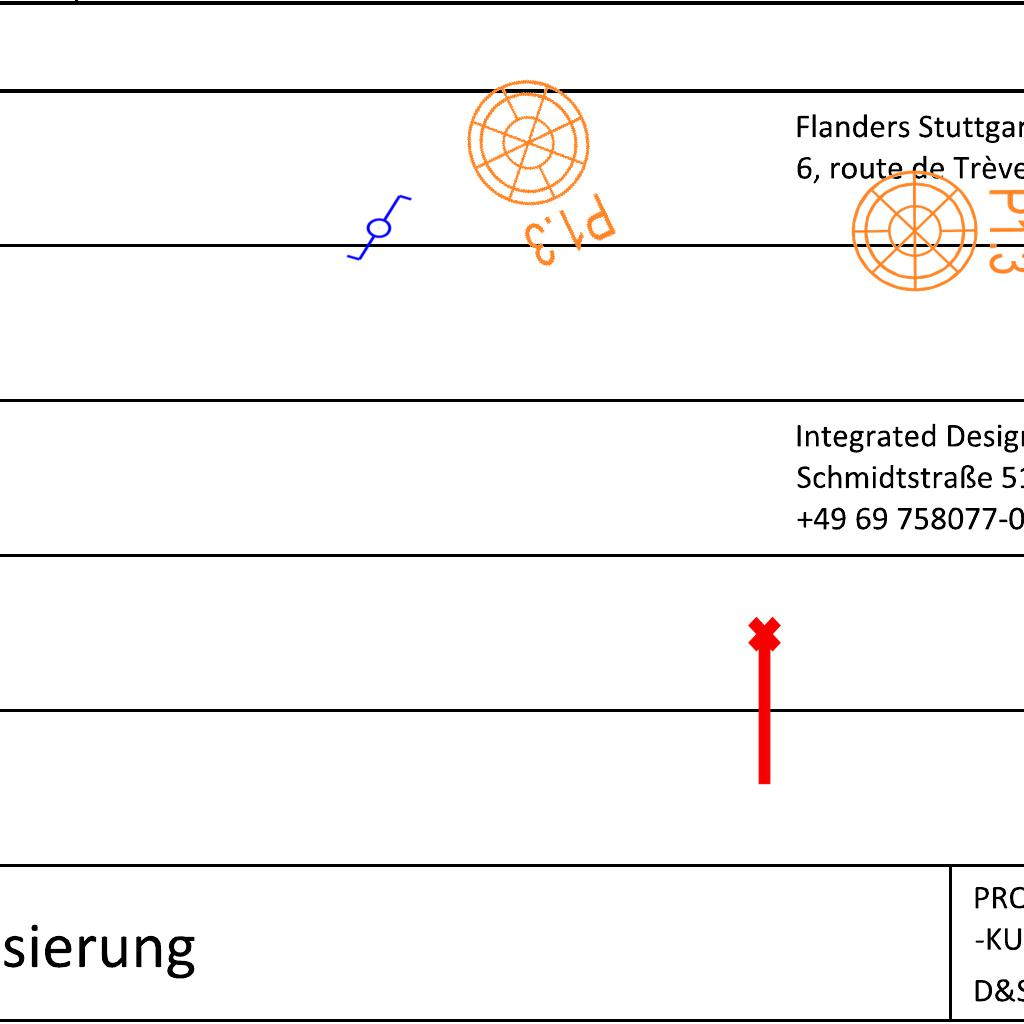ASR_Ansaugoeffnung: (744, 614, 790, 790)
Aufbaurundleuchte_LED_Treppenhaus: (432, 55, 645, 300), (848, 167, 1024, 306)
Wechselschalter: (336, 191, 414, 263)
